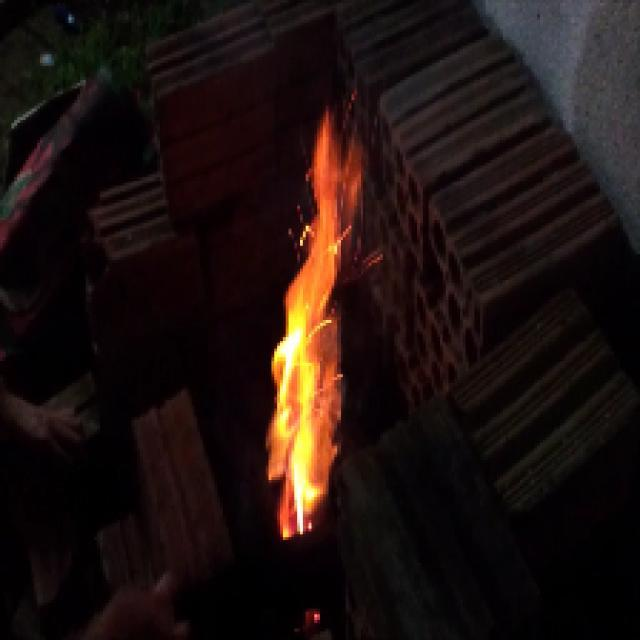Fire: (279, 135, 351, 532)
